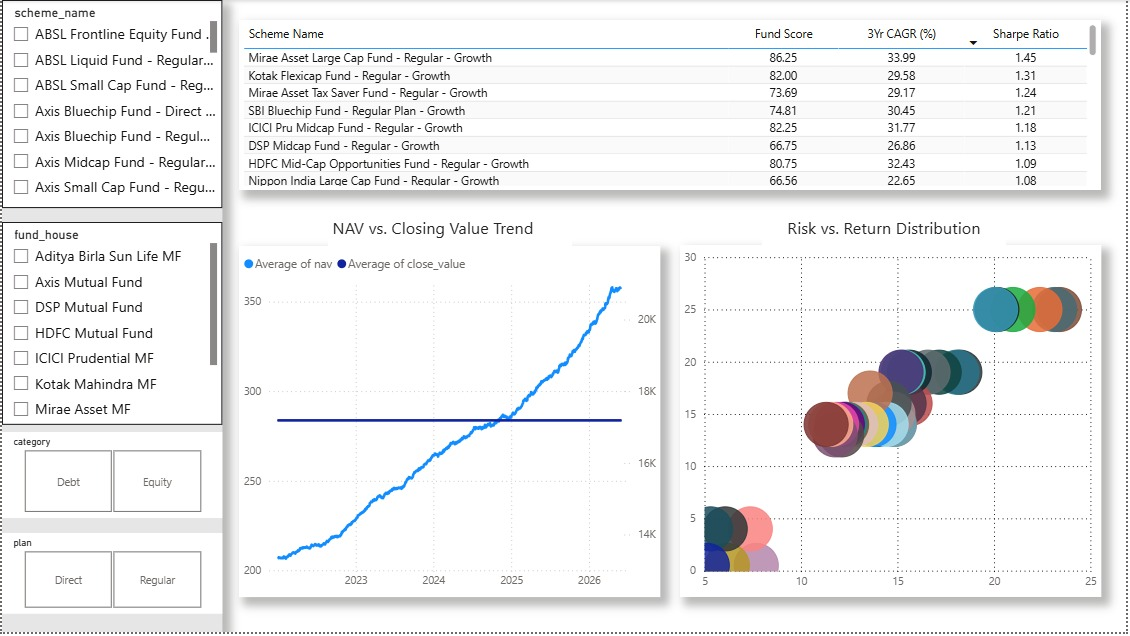

This screenshot's page, from the dashboard's own definition file:
{"tool":"powerbi","page":{"name":"Fund Performance","canvas":[1280,720],"ordinal":1},"visuals":[{"type":"shape","box":[0,0,250.6,720],"z":0},{"type":"scatterChart","fields":{"X":["clean_performance.return_3yr_pct"],"Y":["clean_performance.std_dev_ann_pct"],"Size":["Sum(03_aum_by_fund_house.aum_crore)"],"Series":["clean_performance.scheme_name"]},"box":[772.4,279.1,479.6,401],"z":1000},{"type":"tableEx","fields":{"Values":["fund_scorecard.scheme_name","Sum(fund_scorecard.fund_score)","Sum(fund_scorecard.cagr_3yr_pct)","Sum(fund_scorecard.sharpe_ratio)"]},"box":[270,22.8,982,193.7],"z":2000},{"type":"lineChart","fields":{"Y":["Avg(clean_nav.nav)"],"Category":["clean_nav.date"],"Y2":["Avg(10_benchmark_indices.close_value)"]},"box":[270,280.3,479.6,399.9],"z":3000},{"type":"slicer","fields":{"Values":["01_fund_master.fund_house"]},"box":[0,252.9,250.6,231.3],"z":4000},{"type":"slicer","fields":{"Values":["01_fund_master.category"]},"box":[0,492.2,250.6,98],"z":5000},{"type":"slicer","fields":{"Values":["01_fund_master.plan"]},"box":[0,607.2,250.6,92.3],"z":6000},{"type":"slicer","fields":{"Values":["01_fund_master.scheme_name"]},"box":[0,0,250.6,237],"z":7000},{"type":"textbox","box":[371.4,241.5,278,38.7],"z":8000},{"type":"textbox","box":[865.8,241.5,278,38.7],"z":9000}]}

Visuals, with their boxes on the page's 1280x720 design canvas (x1, y1, x2, y2). These are canvas units, not pixel positions in the 1130x636 screenshot, which may show the page scaled, cropped or inside an application window:
shape: 0,0,251,720
scatterChart - clean_performance.return_3yr_pct x clean_performance.std_dev_ann_pct: 772,279,1252,680
tableEx - fund_scorecard.scheme_name x Sum(fund_scorecard.fund_score): 270,23,1252,216
lineChart - Avg(clean_nav.nav) x clean_nav.date: 270,280,750,680
slicer - 01_fund_master.fund_house: 0,253,251,484
slicer - 01_fund_master.category: 0,492,251,590
slicer - 01_fund_master.plan: 0,607,251,700
slicer - 01_fund_master.scheme_name: 0,0,251,237
textbox: 371,242,649,280
textbox: 866,242,1144,280
